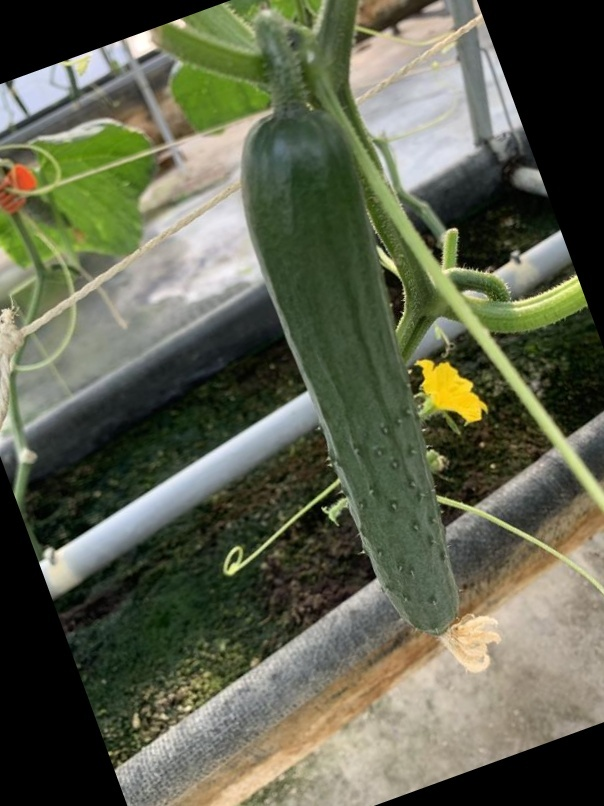mature: (244, 104, 468, 629)
